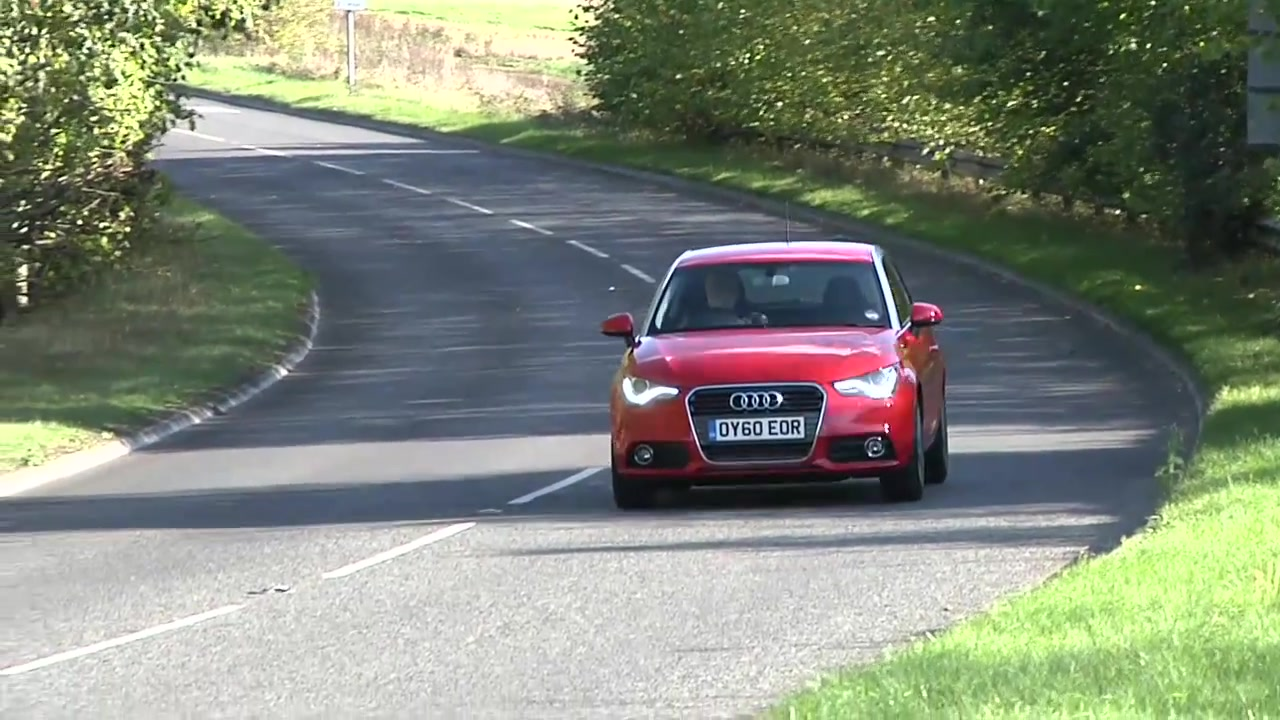car: (599, 236, 955, 517)
